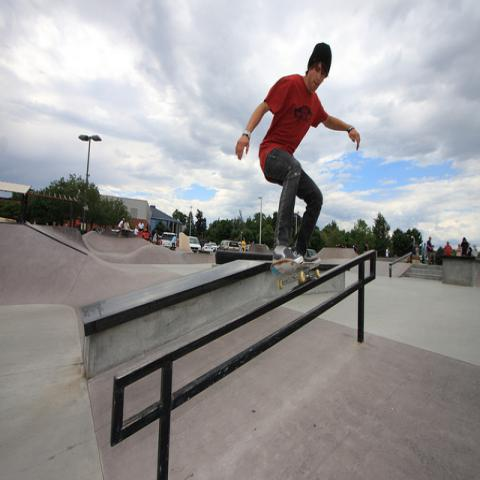car: (160, 231, 180, 247), (219, 241, 240, 251), (190, 236, 202, 252), (201, 243, 213, 254), (212, 242, 218, 252)
